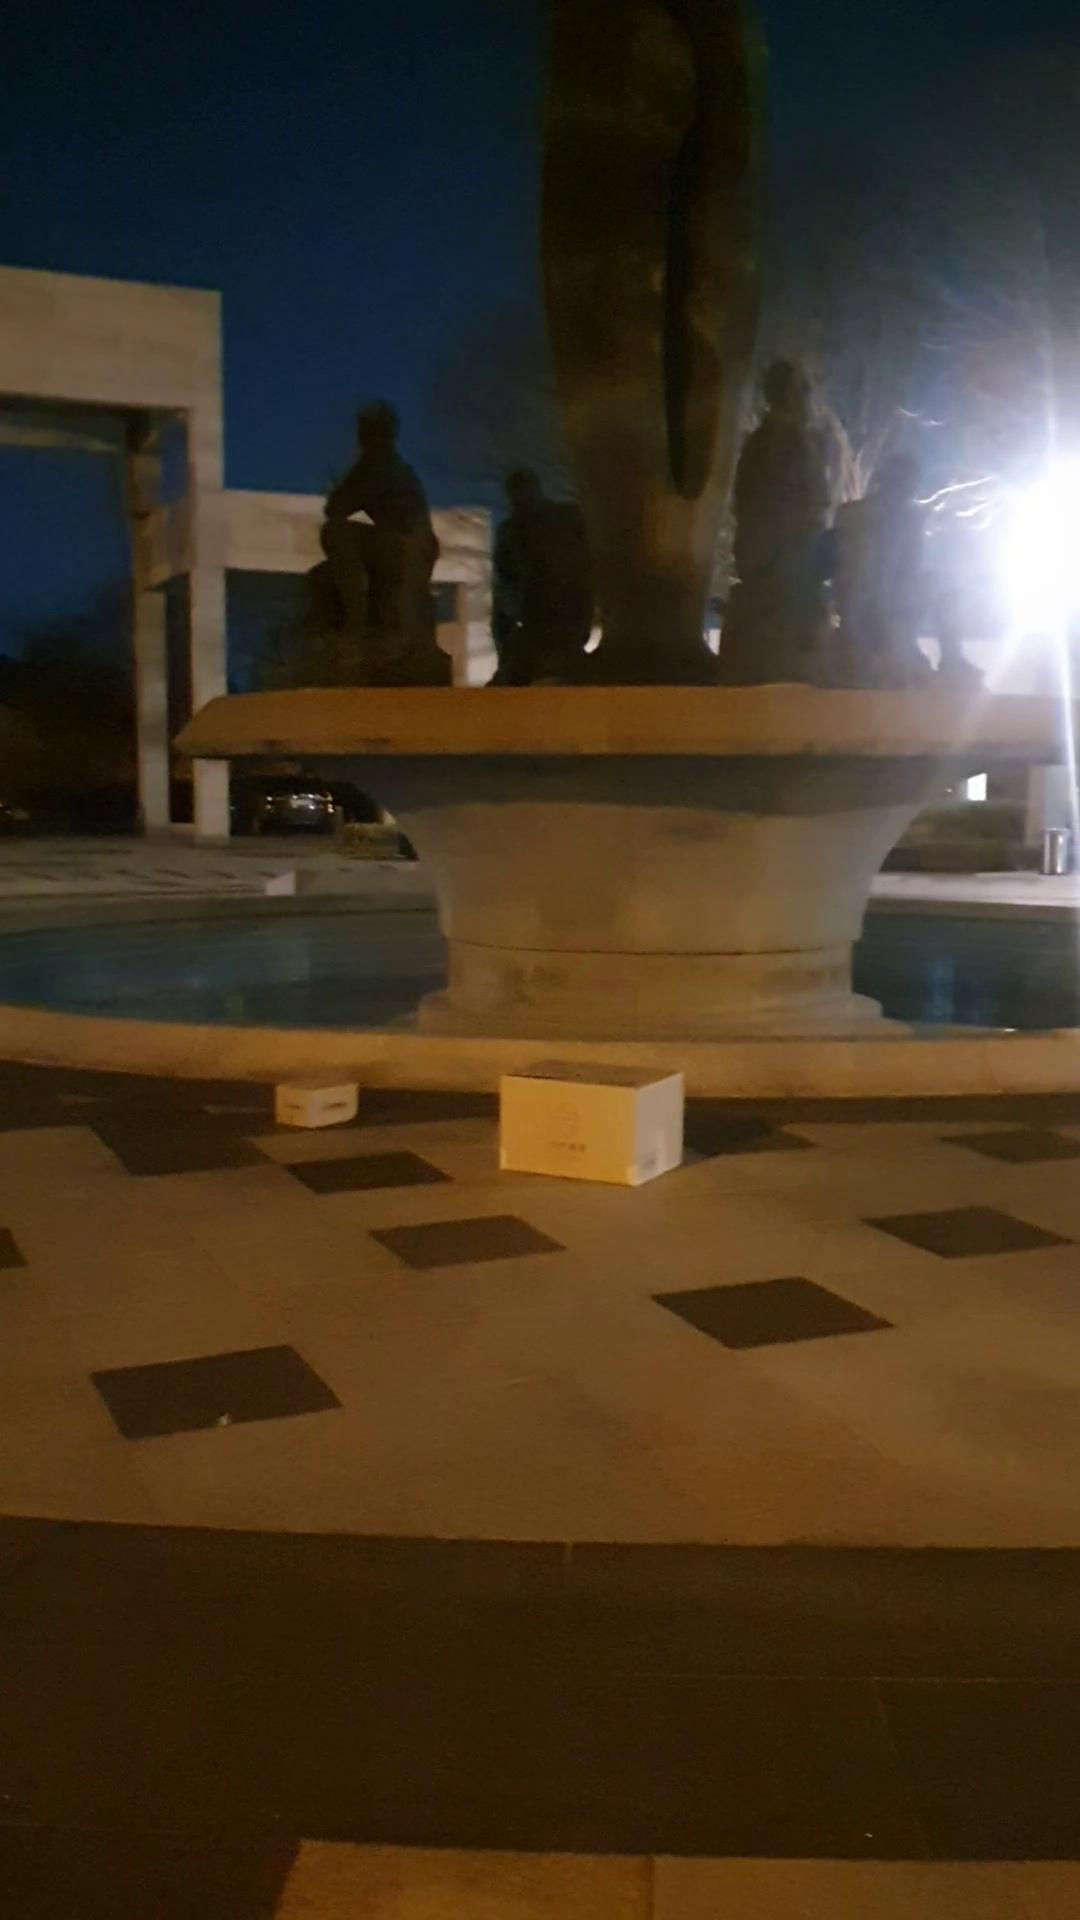Box: (488, 1050, 699, 1200), (262, 1068, 363, 1133)
